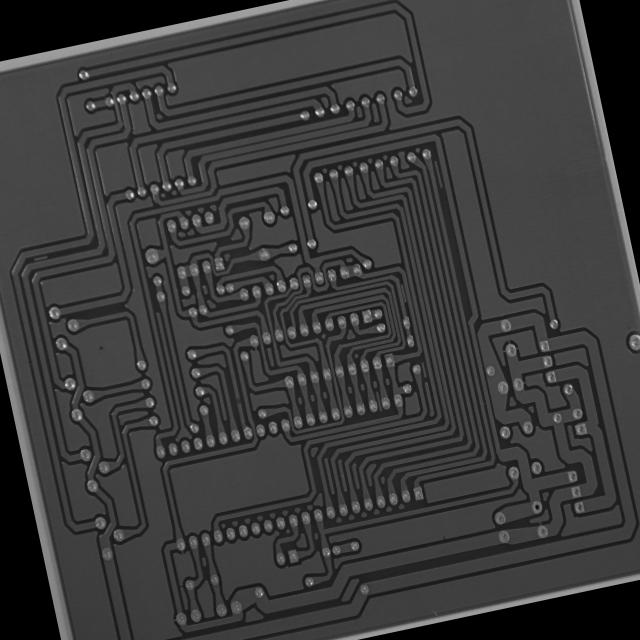spurious_copper: (428, 153, 446, 190), (397, 278, 410, 307), (372, 387, 385, 414), (30, 250, 50, 266), (418, 356, 429, 379)
